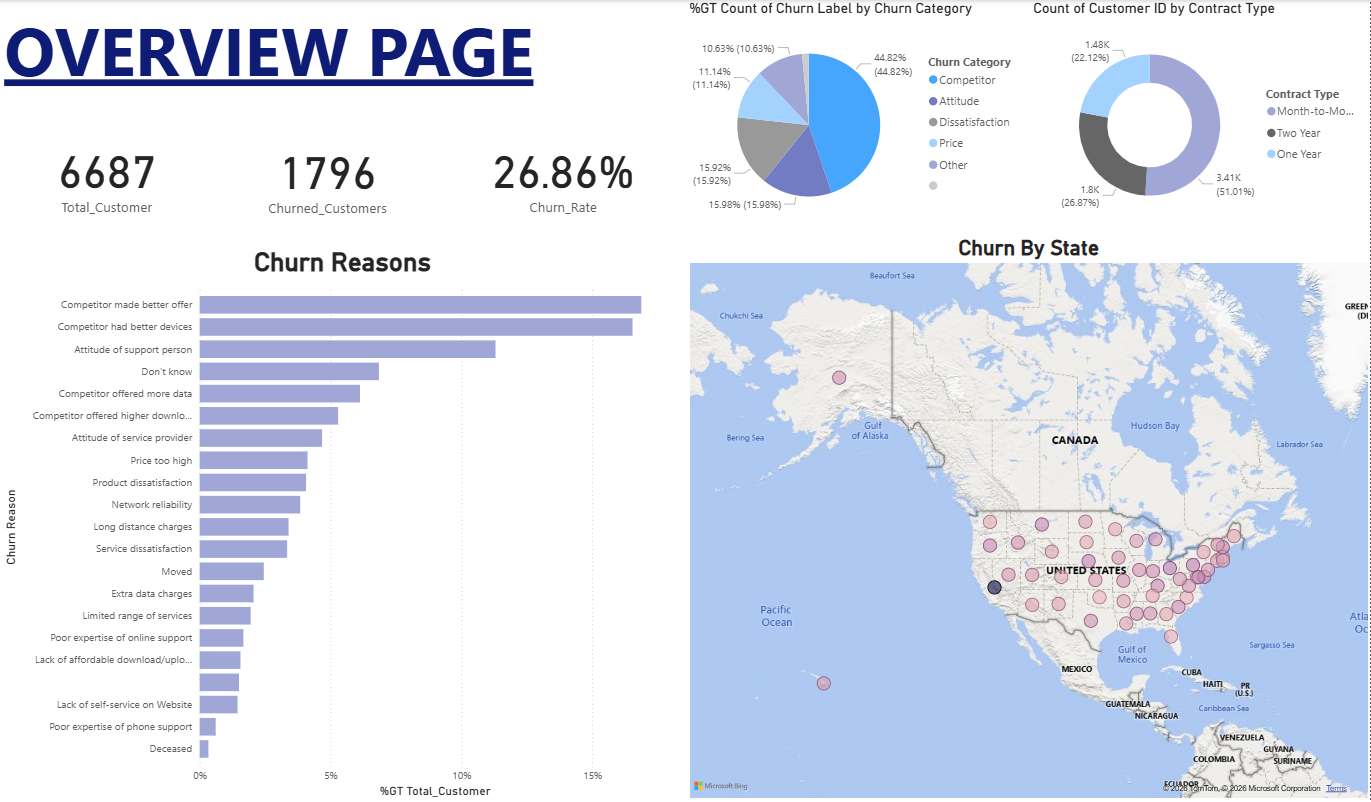

This screenshot's page, from the dashboard's own definition file:
{"tool":"powerbi","page":{"name":"OverView Page","canvas":[1640,960],"ordinal":1},"visuals":[{"type":"card","fields":{"Values":["Databel - Data.Total_Customer"]},"box":[0,139.6,255.5,139.6],"z":0},{"type":"card","fields":{"Values":["Databel - Data.Number_of_churn_customer"]},"box":[255.5,140.8,274.2,139.6],"z":1000},{"type":"card","fields":{"Values":["Databel - Data.Churn_Rate"]},"box":[529.6,139.6,290.4,139.6],"z":2000},{"type":"clusteredBarChart","title":"Churn Reasons","fields":{"Category":["Databel - Data.Churn Reason"],"Y":["Databel - Data.Total_Customer"]},"box":[0,295.3,820,664.2],"z":3000},{"type":"pieChart","fields":{"Category":["Databel - Data.Churn Category"],"Y":["CountNonNull(Databel - Data.Churn Label)"]},"box":[820,0,411.2,280.4],"z":4000},{"type":"donutChart","fields":{"Y":["CountNonNull(Databel - Data.Customer ID)"],"Category":["Databel - Data.Contract Type"]},"box":[1231.2,0,408.8,280.4],"z":5000},{"type":"map","title":"Churn By State","fields":{"Category":["Databel - Data.State"]},"box":[820.9,281,820.9,678.5],"z":6000},{"type":"textbox","box":[0,0,663,127.1],"z":7000}]}

Visuals, with their boxes in screenshot pixels (x1, y1, x2, y2), scaled from the page's 1640x960 canvas onto the 1371x802 screenshot:
card - Databel - Data.Total_Customer: crop(0, 117, 214, 233)
card - Databel - Data.Number_of_churn_customer: crop(214, 118, 443, 234)
card - Databel - Data.Churn_Rate: crop(443, 117, 686, 233)
"Churn Reasons" clusteredBarChart: crop(0, 247, 686, 801)
pieChart - Databel - Data.Churn Category x CountNonNull(Databel - Data.Churn Label): crop(686, 0, 1029, 234)
donutChart - CountNonNull(Databel - Data.Customer ID) x Databel - Data.Contract Type: crop(1029, 0, 1370, 234)
"Churn By State" map: crop(686, 235, 1370, 801)
textbox: crop(0, 0, 554, 106)
